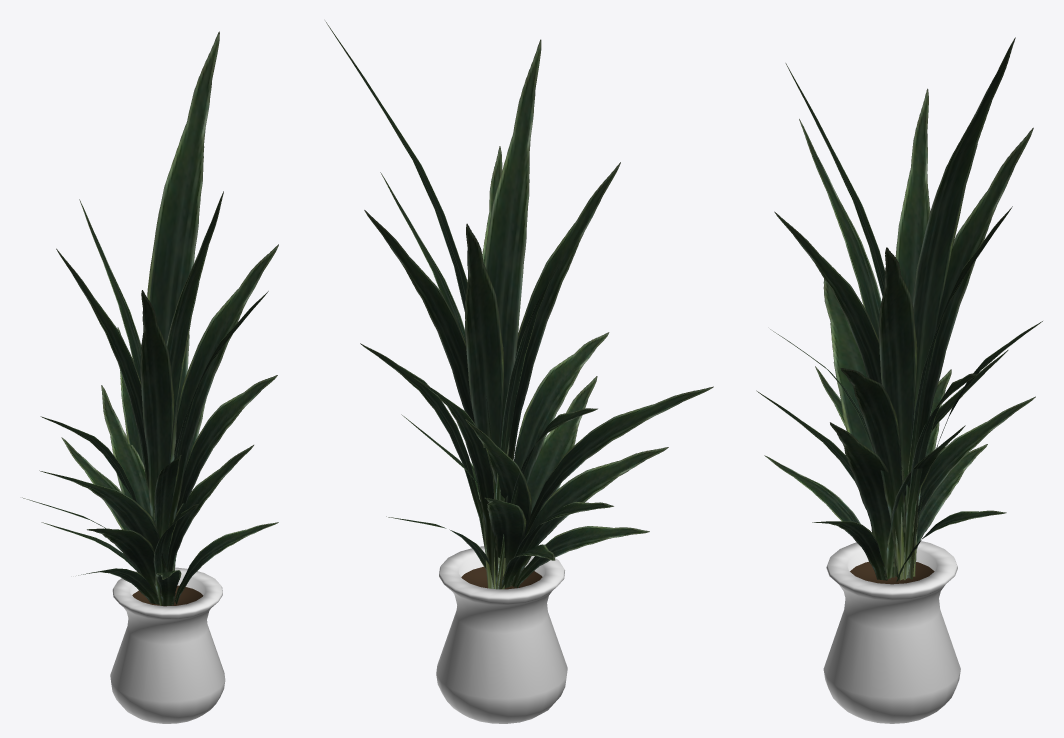
Rendered from pottedplant.glb.
3 views of the same model, side by side, from view 1: azimuth 30°, elevation 25°; view 2: azimuth 150°, elevation 25°; view 3: azimuth 270°, elevation 25° (orthographic). The views are drawn at different scales.
Visible parts, largest first — view 1: Cylinder.010; view 2: Cylinder.010; view 3: Cylinder.010.
Part boxes in pixels (x1,y1,x2,y2): Cylinder.010: [22, 31, 278, 723]; Cylinder.010: [325, 21, 713, 723]; Cylinder.010: [756, 37, 1042, 723].
Bounding box in the file's own units: 1.6 × 3.42 × 1.24.
3 materials, 1 textured.
